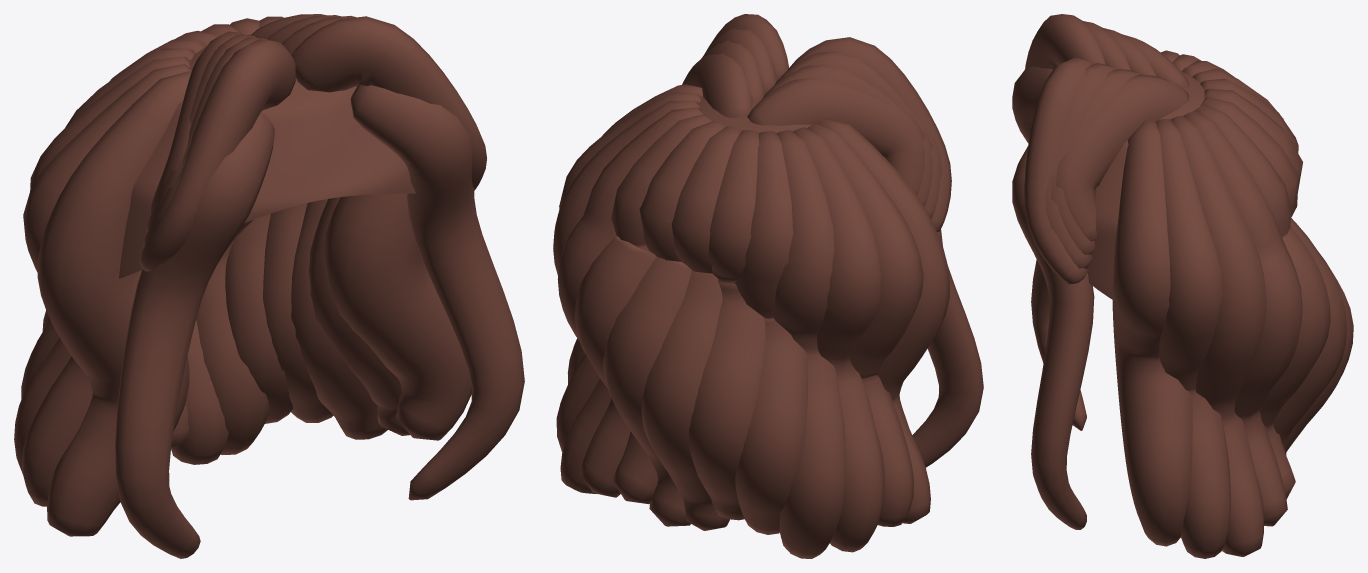
Rendered from studio_long_waves_medium.glb.
3 views of the same model, side by side, from view 1: azimuth 30°, elevation 25°; view 2: azimuth 150°, elevation 25°; view 3: azimuth 270°, elevation 25° (orthographic). The views are drawn at different scales.
Parts seen in each view (by area): view 1: long_waves; view 2: long_waves; view 3: long_waves.
Part boxes in pixels (x1,y1,x2,y2): long_waves: [14, 14, 524, 558]; long_waves: [553, 14, 983, 558]; long_waves: [1012, 14, 1353, 558].
Size of the model in its own units: 0.6339 by 0.7171 by 0.4916.
